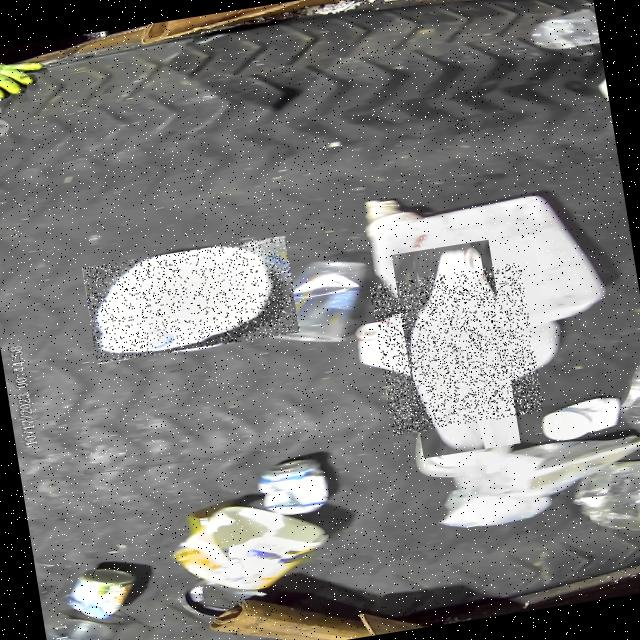milk-jug: (369, 261, 544, 435), (82, 234, 301, 364)
